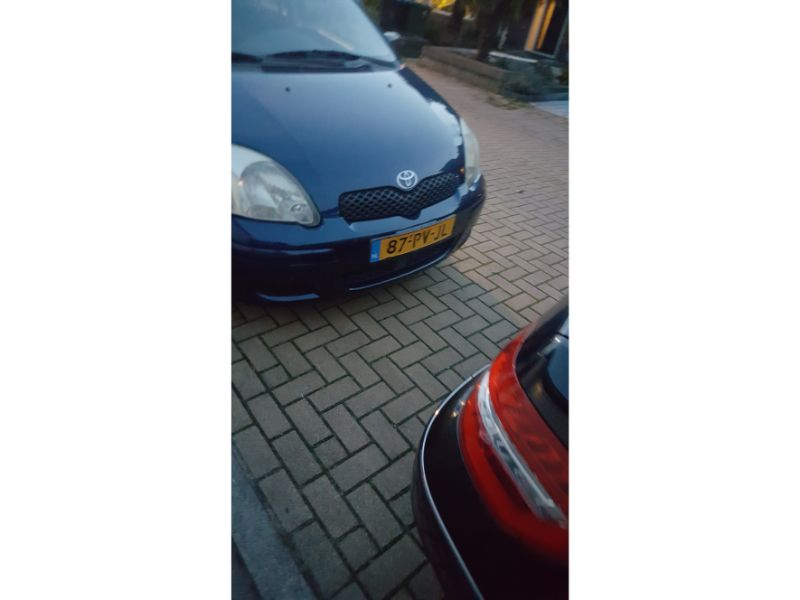kenteken: (368, 213, 460, 261)
